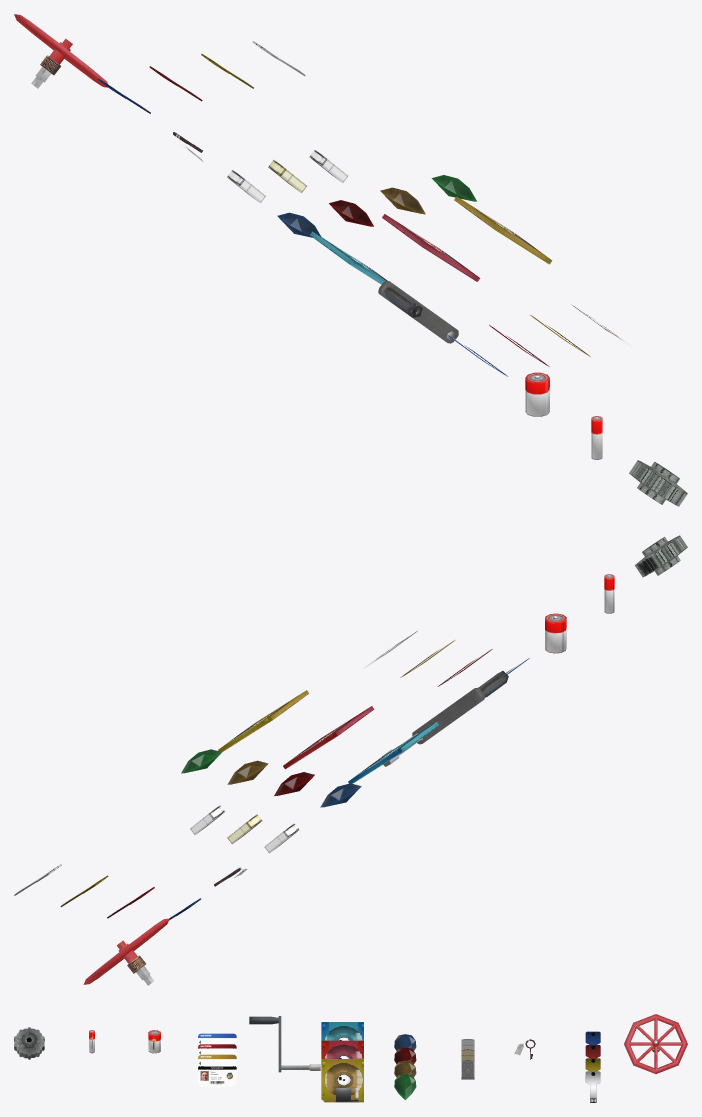
The picture shows the model from 3 angles, top to bottom: view 1: azimuth 30°, elevation 25°; view 2: azimuth 150°, elevation 25°; view 3: azimuth 270°, elevation 25°; orthographic projection. The views are drawn at different scales.
Visible parts, largest first — view 1: ValveLow_10, GearLow_0, CrankLow_4, BatteryCLow_2, Floppy.002_12, Floppy.001_11; view 2: CrankLow_4, ValveLow_10, GearLow_0, BatteryCLow_2, Floppy.001_11, Floppy_5, Floppy.002_12; view 3: Floppy.002_12, ValveLow_10, CardLow.003_20, Floppy_5, Floppy.001_11, GearLow_0, CrankLow_4, CardLow_3, CardLow.002_19, GemLow.003_15, CardLow.001_18, USBKeyLow.003_23 (+8 smaller).
Boxes of the visible parts, left/top/right/bottom form: ValveLow_10: left=14, top=14, right=108, bottom=88; GearLow_0: left=629, top=460, right=687, bottom=506; CrankLow_4: left=378, top=280, right=458, bottom=343; BatteryCLow_2: left=525, top=372, right=549, bottom=416; Floppy.002_12: left=454, top=196, right=552, bottom=264; Floppy.001_11: left=382, top=214, right=480, bottom=281; CrankLow_4: left=382, top=671, right=508, bottom=766; ValveLow_10: left=83, top=918, right=169, bottom=985; GearLow_0: left=635, top=535, right=687, bottom=577; BatteryCLow_2: left=545, top=613, right=566, bottom=653; Floppy.001_11: left=283, top=706, right=374, bottom=769; Floppy_5: left=348, top=722, right=439, bottom=783; Floppy.002_12: left=218, top=690, right=308, bottom=752; Floppy.002_12: left=321, top=1059, right=363, bottom=1102; ValveLow_10: left=624, top=1014, right=687, bottom=1073; CardLow.003_20: left=198, top=1065, right=236, bottom=1086; Floppy_5: left=321, top=1022, right=363, bottom=1040; Floppy.001_11: left=321, top=1040, right=363, bottom=1058; GearLow_0: left=14, top=1027, right=44, bottom=1059; CrankLow_4: left=249, top=1016, right=320, bottom=1072; CardLow_3: left=198, top=1033, right=236, bottom=1046; CardLow.002_19: left=198, top=1054, right=236, bottom=1067; GemLow.003_15: left=394, top=1074, right=416, bottom=1099; CardLow.001_18: left=198, top=1044, right=236, bottom=1056; USBKeyLow.003_23: left=585, top=1071, right=600, bottom=1102.
Bounding box in the file's own units: 2.14 × 0.7239 × 10.76.
24 materials, 24 textured.
